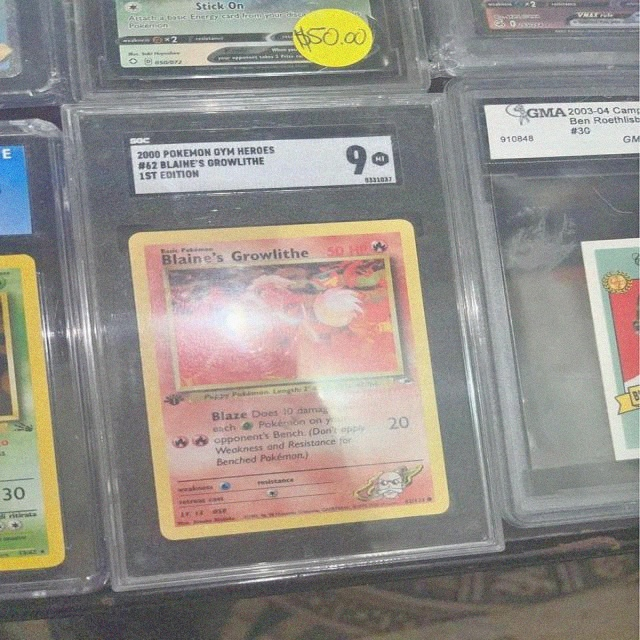card: (127, 219, 451, 541), (101, 0, 395, 78), (0, 253, 68, 573)
